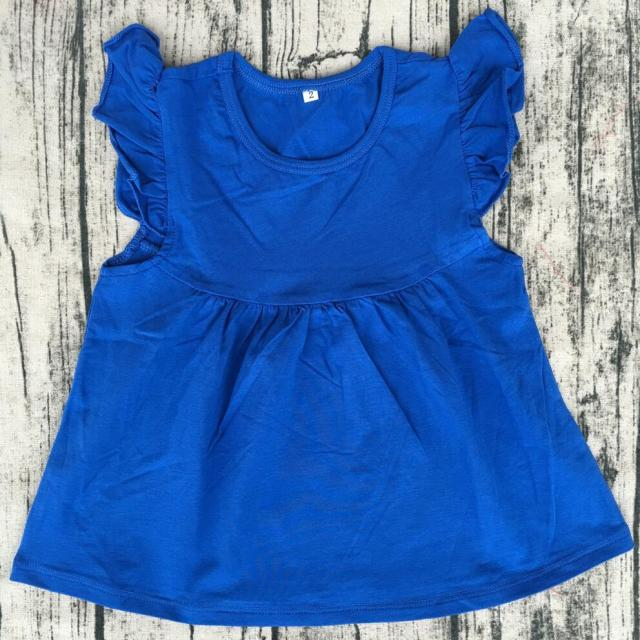Dress: (17, 25, 632, 628)
